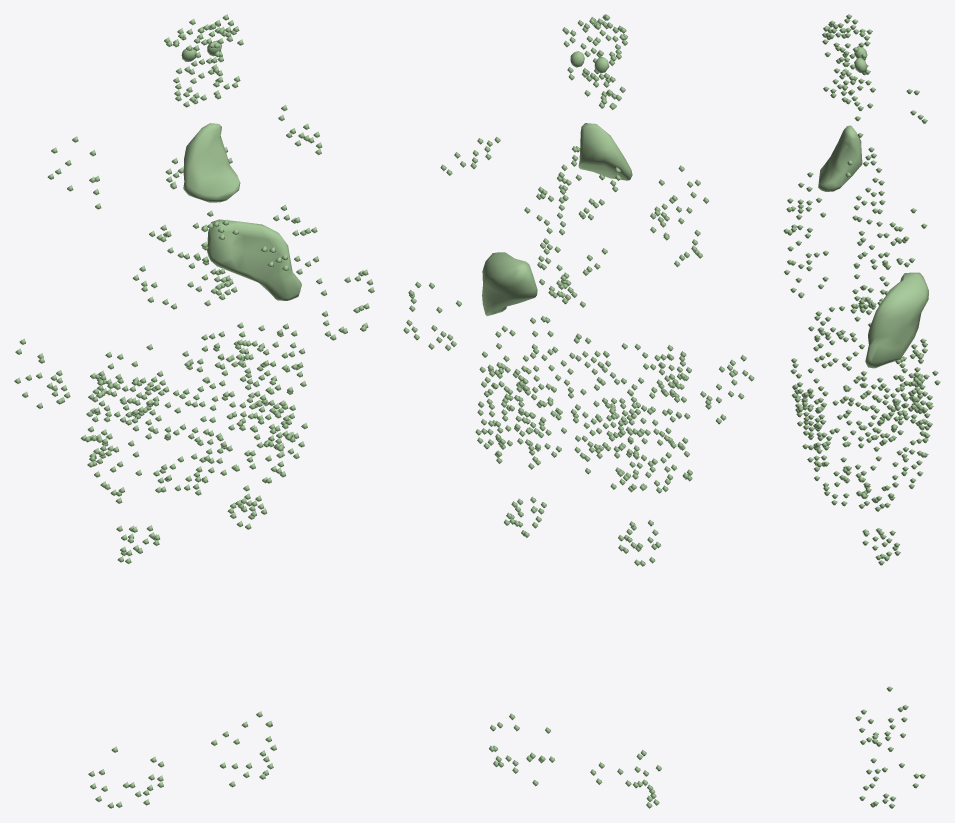
The model's file is pediatric_child_5y_male.lymphatic.LOD2.glb.
3 renders of one model, left to right at view 1: azimuth 30°, elevation 25°; view 2: azimuth 150°, elevation 25°; view 3: azimuth 270°, elevation 25°, orthographic. The views are drawn at different scales.
Visible parts, largest first — view 1: PEDIATRIC.CHILD_5Y.MALE.LYMPHATIC.LYMPHATIC_NODES_TRUNK, PEDIATRIC.CHILD_5Y.MALE.LYMPHATIC.SPLEEN, PEDIATRIC.CHILD_5Y.MALE.LYMPHATIC.THYMUS, PEDIATRIC.CHILD_5Y.MALE.LYMPHATIC.LYMPHATIC_NODES_ET, PEDIATRIC.CHILD_5Y.MALE.LYMPHATIC.LYMPHATIC_NODES_THORACIC, PEDIATRIC.CHILD_5Y.MALE.LYMPHATIC.LYMPHATIC_NODES_LEGS, PEDIATRIC.CHILD_5Y.MALE.LYMPHATIC.LYMPHATIC_NODES_ARMS; view 2: PEDIATRIC.CHILD_5Y.MALE.LYMPHATIC.LYMPHATIC_NODES_TRUNK, PEDIATRIC.CHILD_5Y.MALE.LYMPHATIC.SPLEEN, PEDIATRIC.CHILD_5Y.MALE.LYMPHATIC.THYMUS, PEDIATRIC.CHILD_5Y.MALE.LYMPHATIC.LYMPHATIC_NODES_THORACIC, PEDIATRIC.CHILD_5Y.MALE.LYMPHATIC.LYMPHATIC_NODES_ET, PEDIATRIC.CHILD_5Y.MALE.LYMPHATIC.LYMPHATIC_NODES_ARMS, PEDIATRIC.CHILD_5Y.MALE.LYMPHATIC.LYMPHATIC_NODES_LEGS; view 3: PEDIATRIC.CHILD_5Y.MALE.LYMPHATIC.LYMPHATIC_NODES_TRUNK, PEDIATRIC.CHILD_5Y.MALE.LYMPHATIC.SPLEEN, PEDIATRIC.CHILD_5Y.MALE.LYMPHATIC.THYMUS, PEDIATRIC.CHILD_5Y.MALE.LYMPHATIC.LYMPHATIC_NODES_ET, PEDIATRIC.CHILD_5Y.MALE.LYMPHATIC.LYMPHATIC_NODES_THORACIC, PEDIATRIC.CHILD_5Y.MALE.LYMPHATIC.LYMPHATIC_NODES_LEGS, PEDIATRIC.CHILD_5Y.MALE.LYMPHATIC.LYMPHATIC_NODES_ARMS, PEDIATRIC.CHILD_5Y.MALE.LYMPHATIC.LYMPHATIC_NODES_HEAD.
Part boxes in pixels (left/top/right/bottom): PEDIATRIC.CHILD_5Y.MALE.LYMPHATIC.LYMPHATIC_NODES_TRUNK: left=47, top=105, right=322, bottom=564; PEDIATRIC.CHILD_5Y.MALE.LYMPHATIC.SPLEEN: left=207, top=219, right=301, bottom=300; PEDIATRIC.CHILD_5Y.MALE.LYMPHATIC.THYMUS: left=183, top=123, right=240, bottom=202; PEDIATRIC.CHILD_5Y.MALE.LYMPHATIC.LYMPHATIC_NODES_ET: left=164, top=14, right=243, bottom=87; PEDIATRIC.CHILD_5Y.MALE.LYMPHATIC.LYMPHATIC_NODES_THORACIC: left=149, top=147, right=238, bottom=306; PEDIATRIC.CHILD_5Y.MALE.LYMPHATIC.LYMPHATIC_NODES_LEGS: left=88, top=711, right=276, bottom=808; PEDIATRIC.CHILD_5Y.MALE.LYMPHATIC.LYMPHATIC_NODES_ARMS: left=14, top=269, right=374, bottom=409; PEDIATRIC.CHILD_5Y.MALE.LYMPHATIC.LYMPHATIC_NODES_TRUNK: left=440, top=137, right=709, bottom=566; PEDIATRIC.CHILD_5Y.MALE.LYMPHATIC.SPLEEN: left=482, top=252, right=537, bottom=315; PEDIATRIC.CHILD_5Y.MALE.LYMPHATIC.THYMUS: left=578, top=123, right=632, bottom=180; PEDIATRIC.CHILD_5Y.MALE.LYMPHATIC.LYMPHATIC_NODES_THORACIC: left=537, top=146, right=621, bottom=307; PEDIATRIC.CHILD_5Y.MALE.LYMPHATIC.LYMPHATIC_NODES_ET: left=562, top=14, right=627, bottom=87; PEDIATRIC.CHILD_5Y.MALE.LYMPHATIC.LYMPHATIC_NODES_ARMS: left=403, top=281, right=754, bottom=424; PEDIATRIC.CHILD_5Y.MALE.LYMPHATIC.LYMPHATIC_NODES_LEGS: left=489, top=713, right=661, bottom=808; PEDIATRIC.CHILD_5Y.MALE.LYMPHATIC.LYMPHATIC_NODES_TRUNK: left=783, top=87, right=940, bottom=565; PEDIATRIC.CHILD_5Y.MALE.LYMPHATIC.SPLEEN: left=865, top=272, right=928, bottom=368; PEDIATRIC.CHILD_5Y.MALE.LYMPHATIC.THYMUS: left=818, top=125, right=862, bottom=191; PEDIATRIC.CHILD_5Y.MALE.LYMPHATIC.LYMPHATIC_NODES_ET: left=822, top=14, right=872, bottom=90; PEDIATRIC.CHILD_5Y.MALE.LYMPHATIC.LYMPHATIC_NODES_THORACIC: left=845, top=147, right=914, bottom=313; PEDIATRIC.CHILD_5Y.MALE.LYMPHATIC.LYMPHATIC_NODES_LEGS: left=855, top=686, right=925, bottom=808; PEDIATRIC.CHILD_5Y.MALE.LYMPHATIC.LYMPHATIC_NODES_ARMS: left=852, top=239, right=901, bottom=451; PEDIATRIC.CHILD_5Y.MALE.LYMPHATIC.LYMPHATIC_NODES_HEAD: left=823, top=65, right=871, bottom=104.
Size of the model in its own units: 0.3377 by 0.7275 by 0.1361.
